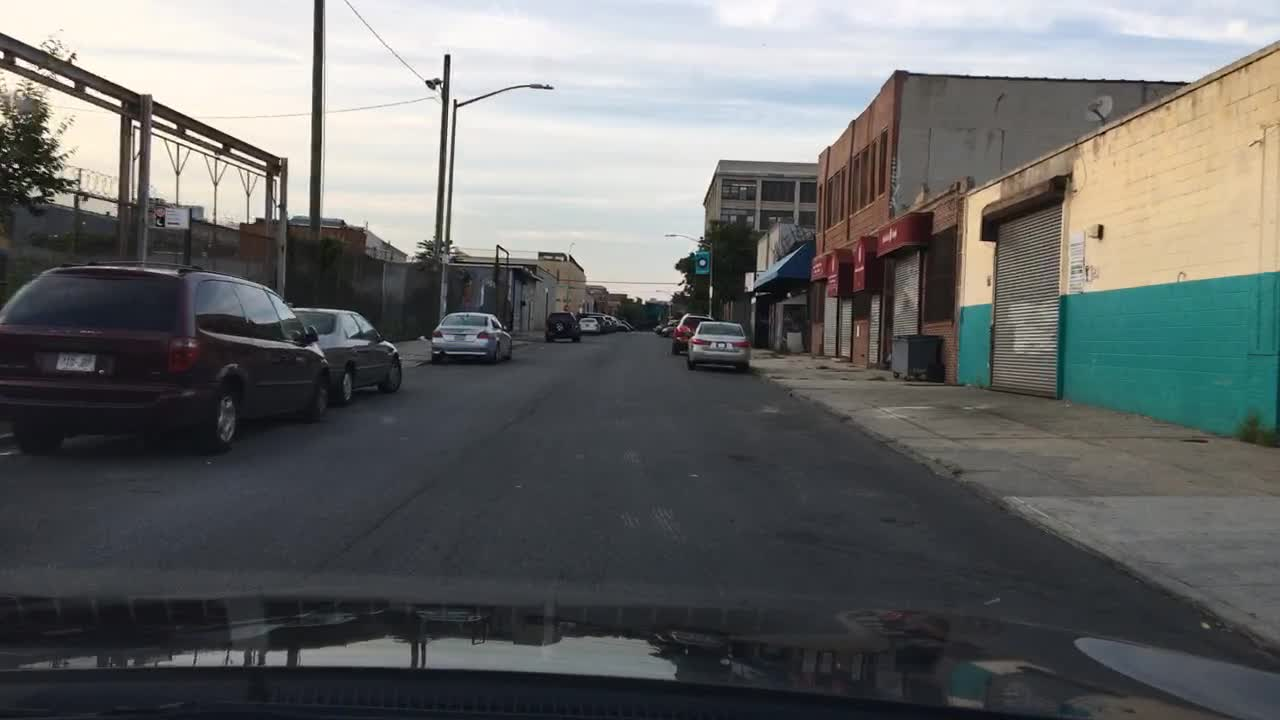car: (0, 259, 332, 454), (289, 307, 403, 407), (429, 312, 515, 365), (687, 321, 751, 373), (668, 312, 715, 356), (543, 310, 581, 343), (581, 312, 630, 330), (578, 316, 602, 336), (584, 313, 613, 328), (660, 319, 682, 337), (650, 317, 674, 333)
traffic sign: (152, 206, 189, 228), (694, 249, 709, 275), (744, 271, 754, 292), (708, 285, 713, 297)
